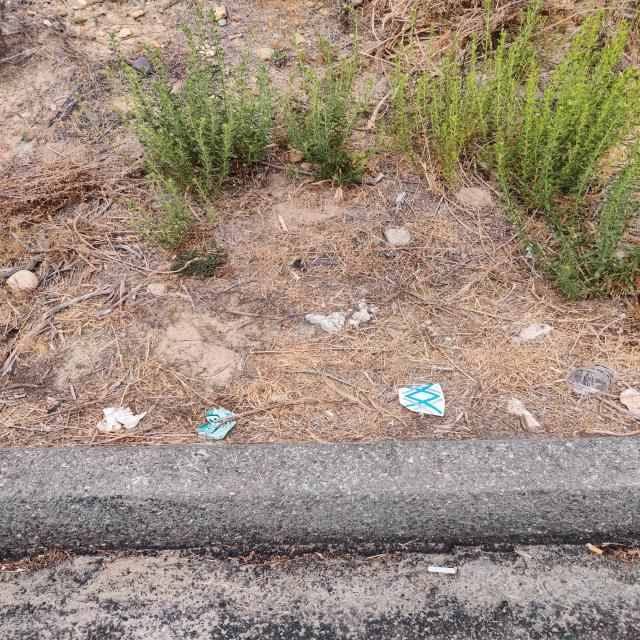litter: (566, 364, 624, 396), (401, 384, 444, 416), (98, 407, 148, 431), (198, 409, 236, 439)
